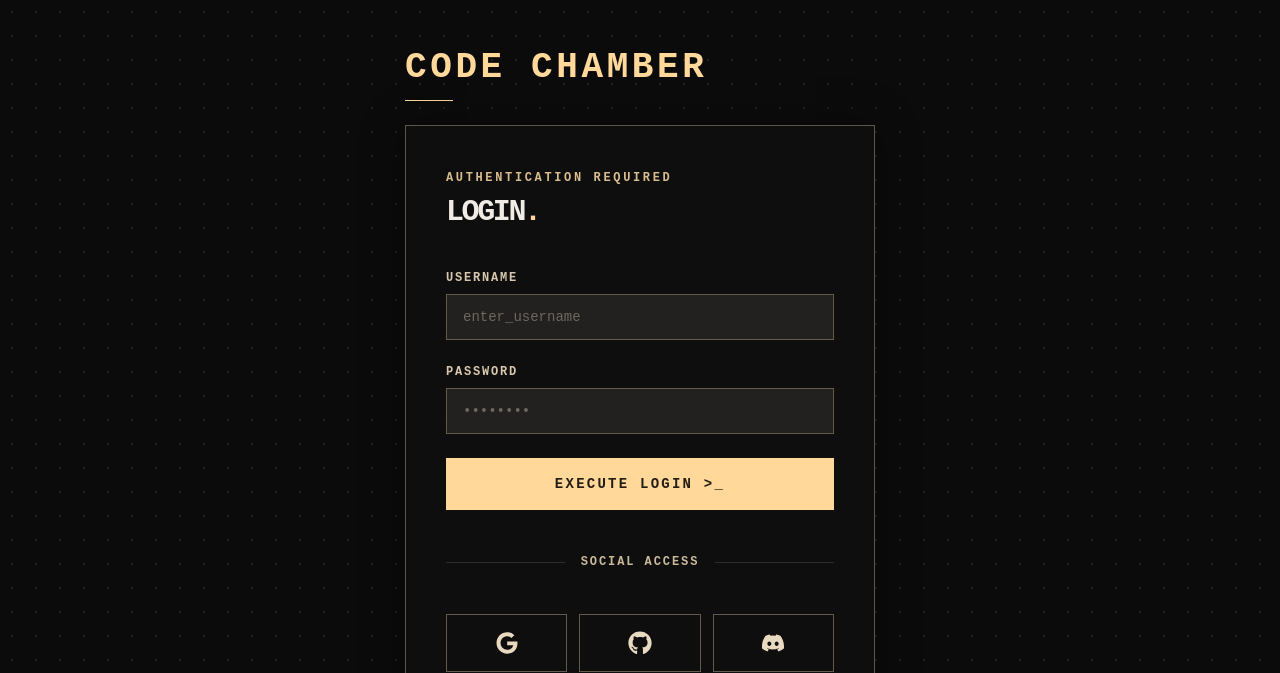
Login - manual submit › shows a fallback error message when signIn.username throws
Step 1. Type "alice" into the field with placeholder "enter_username" → (640, 317), box [446,294,834,340]
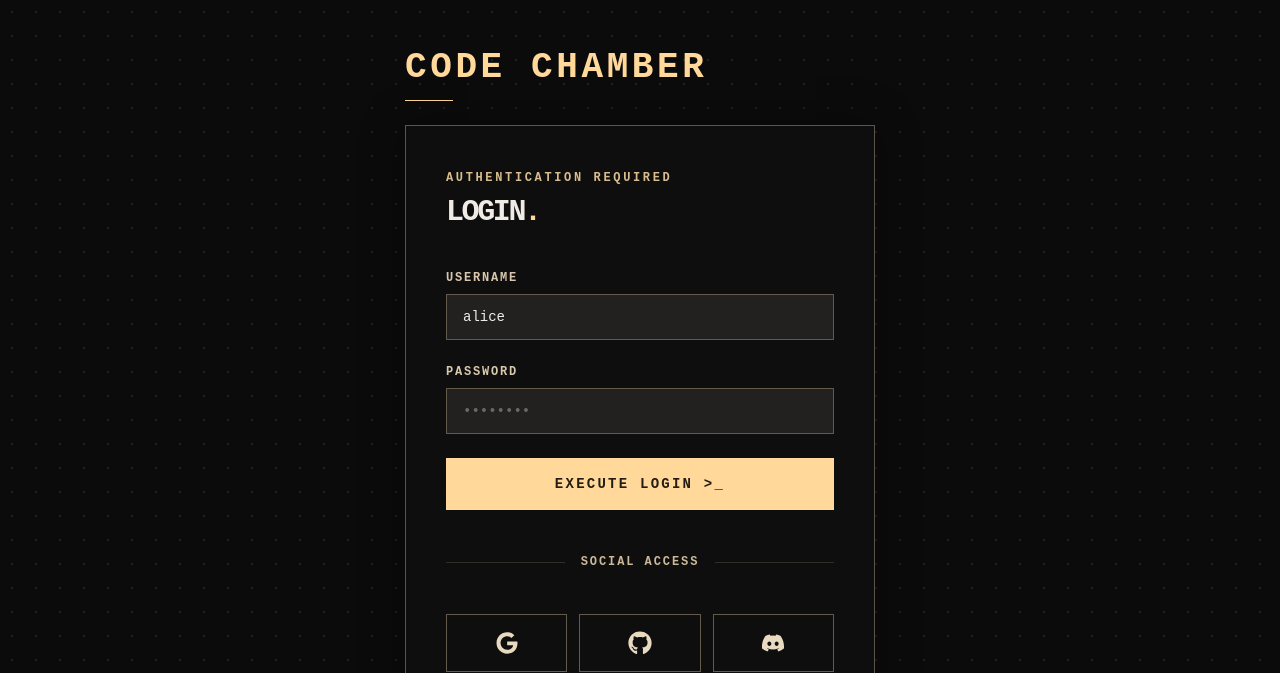
Step 2. Type "hunter2" into the password field with placeholder "••••••••" → (640, 411), box [446,388,834,434]
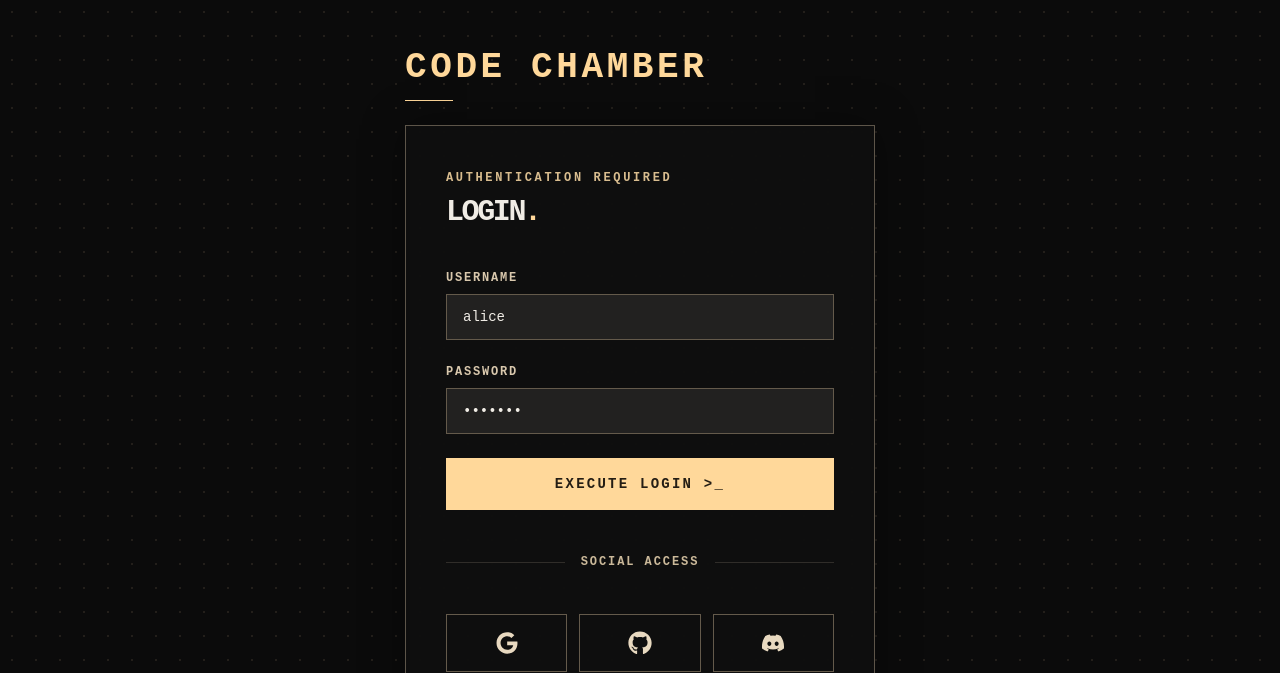
Step 3. Click the button "EXECUTE LOGIN >_" → (640, 484), box [446,458,834,510]
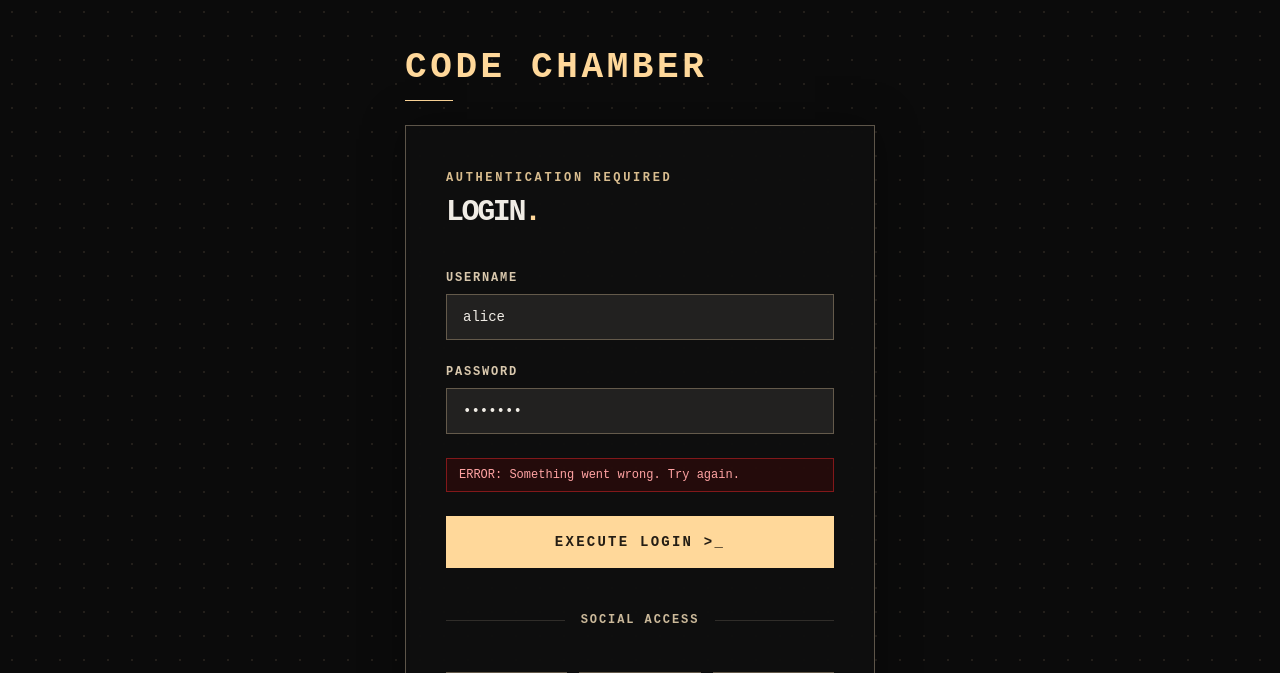
Check: the text "ERROR: Something went wrong. Try again." is shown, box [446,458,834,492]
